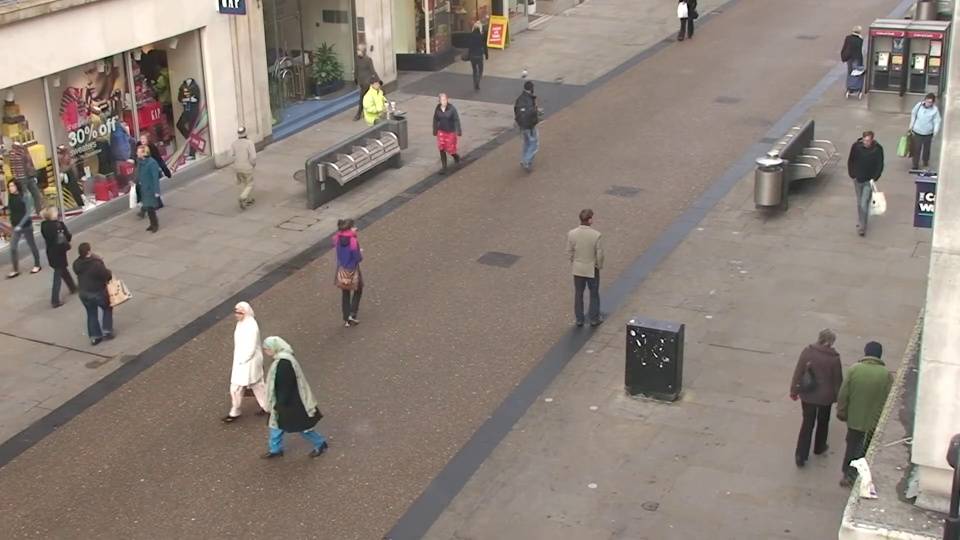pedestrian: (844, 326, 904, 480), (237, 327, 294, 476), (802, 314, 858, 463), (209, 297, 265, 438), (75, 232, 130, 355), (40, 197, 94, 312), (332, 209, 375, 330), (568, 204, 606, 324), (118, 146, 162, 248), (842, 134, 883, 236), (899, 91, 943, 185), (123, 130, 165, 227), (232, 117, 269, 212), (425, 90, 456, 178), (360, 74, 390, 158), (840, 22, 873, 97), (519, 75, 548, 160), (344, 43, 372, 117), (469, 17, 494, 85)
